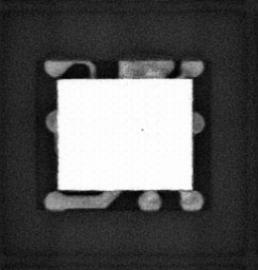DIE_INK: (139, 125, 146, 132)
